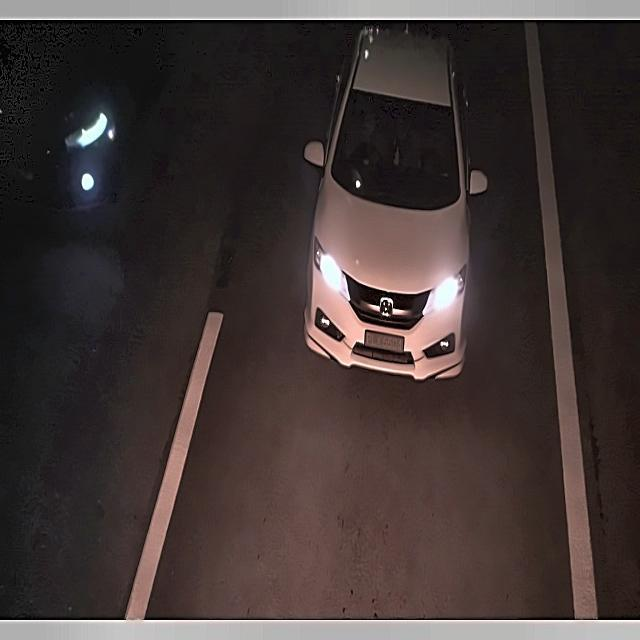car: (4, 138, 44, 192), (361, 325, 413, 360)
